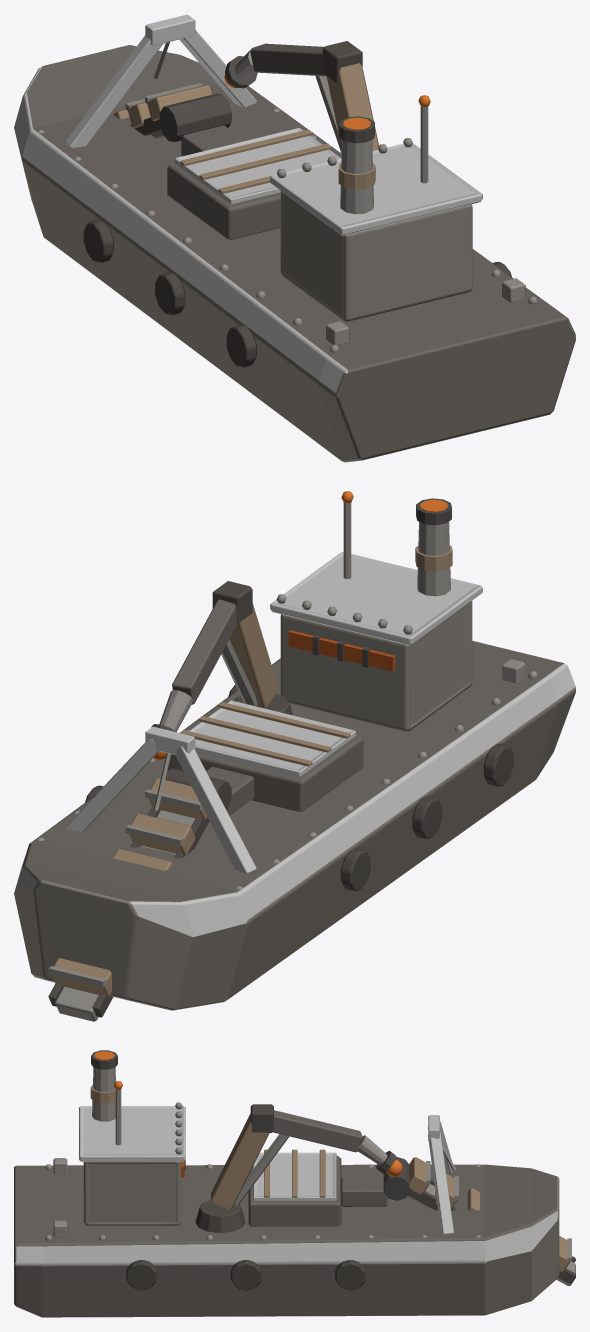
Rendered from crucible_builder_sea.glb.
The picture shows the model from 3 angles, top to bottom: view 1: azimuth 30°, elevation 25°; view 2: azimuth 150°, elevation 25°; view 3: azimuth 270°, elevation 25°; orthographic projection. The views are drawn at different scales.
Visible parts, largest first — view 1: Body; view 2: Body; view 3: Body.
Part boxes in pixels (x1,y1,x2,y2): Body: [14, 14, 575, 462]; Body: [14, 491, 575, 1021]; Body: [14, 1050, 575, 1317].
Bounding box in the file's own units: 0.98 × 1.03 × 2.42.
